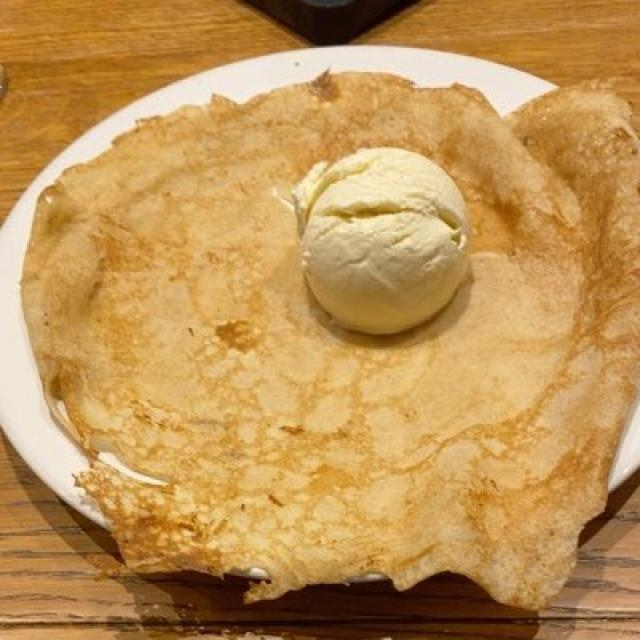crepe: (39, 84, 626, 594)
ice-cream: (298, 139, 463, 346)
